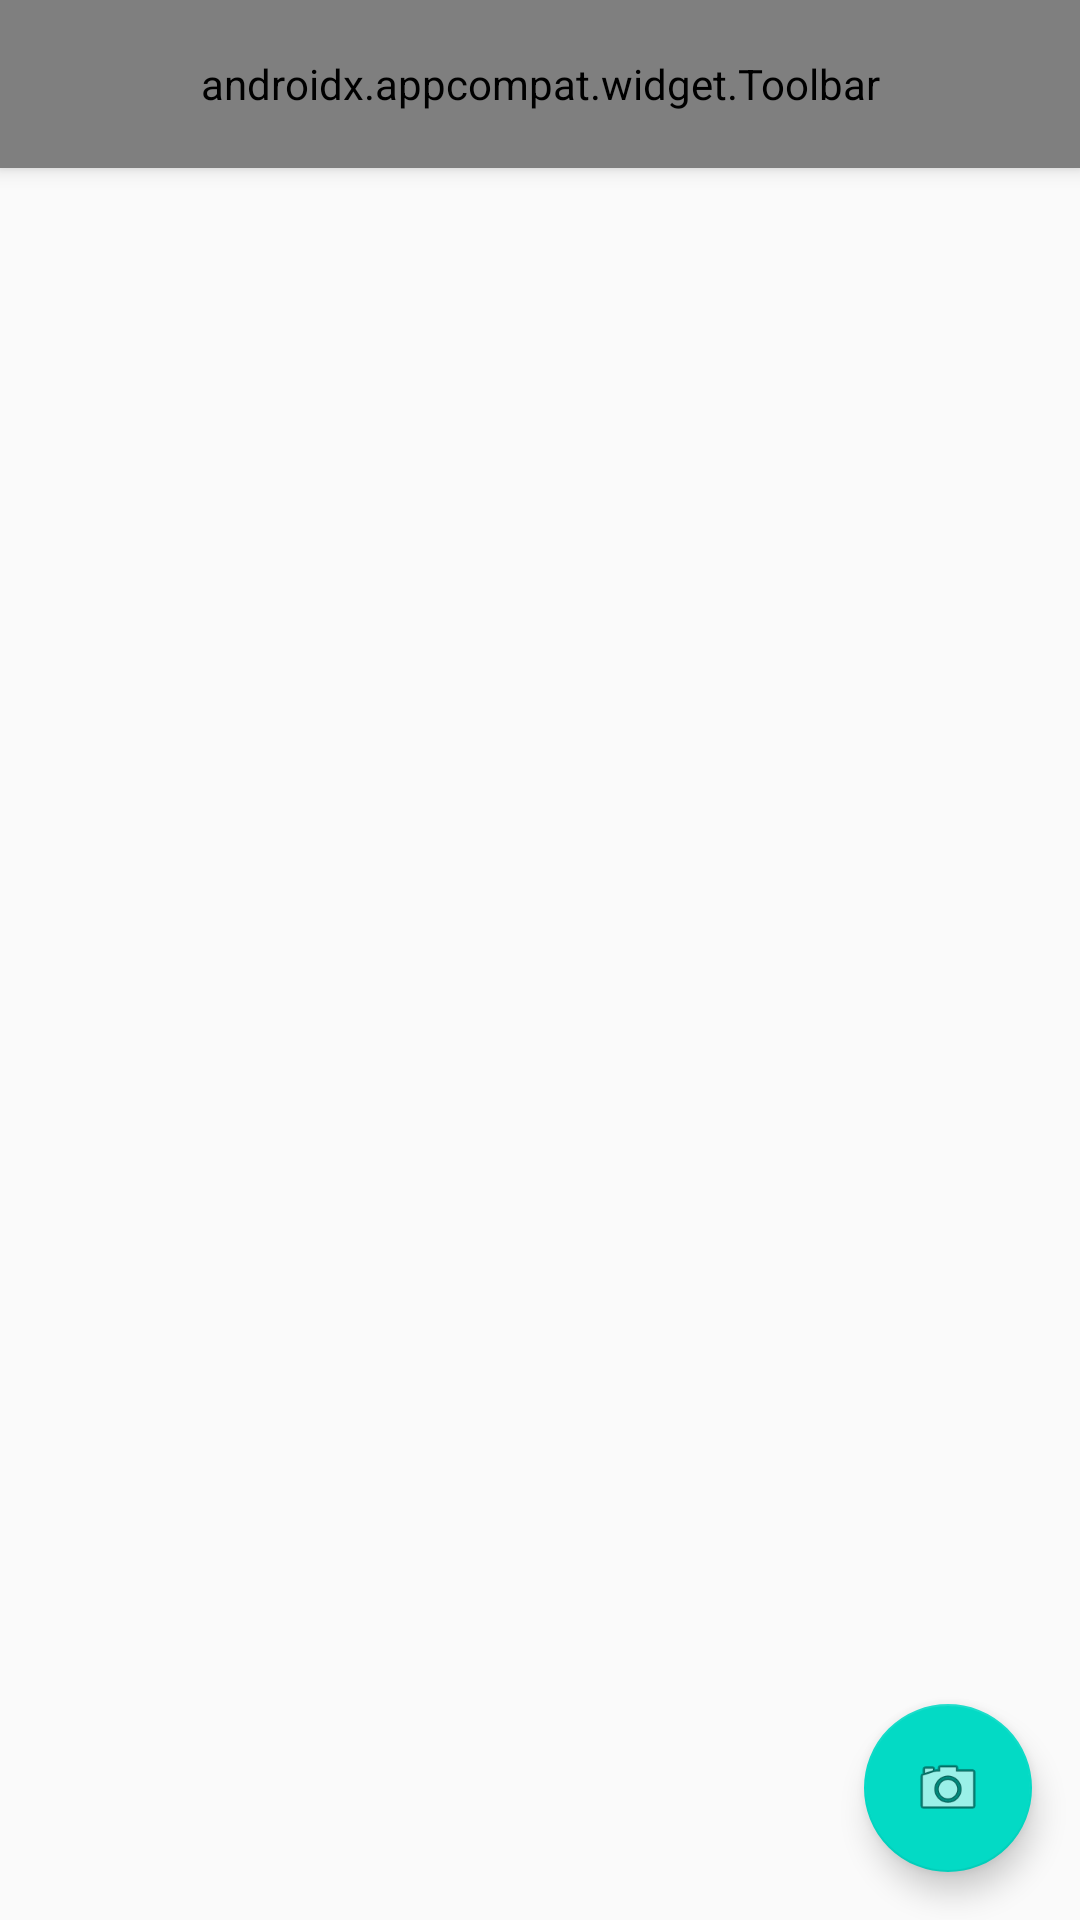

Named icons in this screenshot (1080×1920) and their centers, (x,y):
camera: (948,1788)
